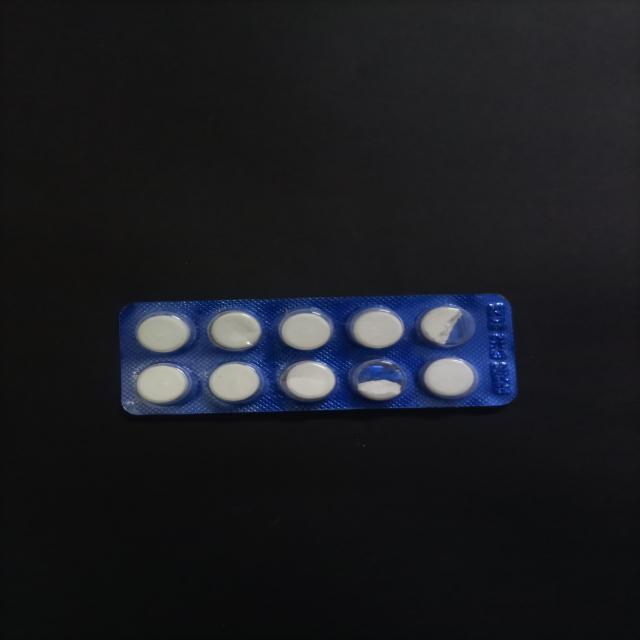defect: (414, 302, 480, 351), (348, 356, 408, 405)
